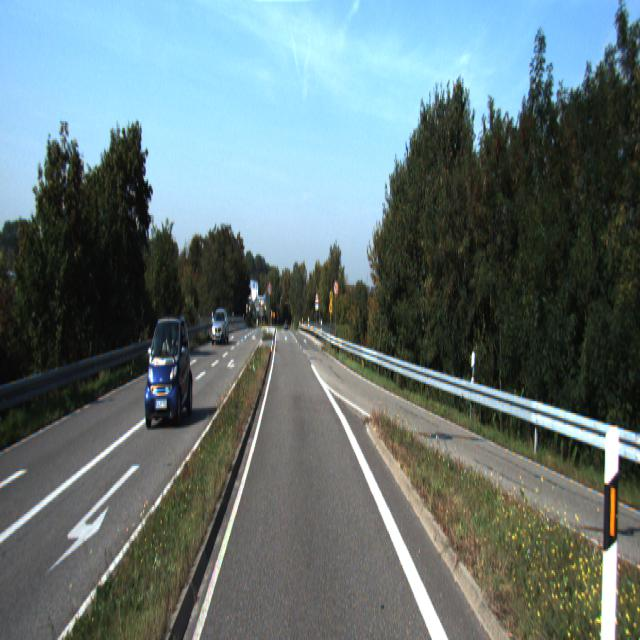Car: (143, 314, 193, 427), (209, 308, 229, 346)
